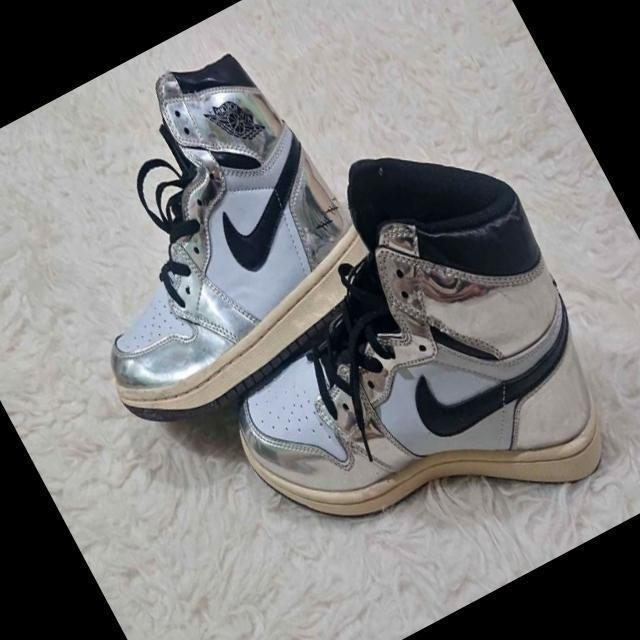nike fake jordan 1: (146, 99, 640, 616), (0, 23, 401, 449)
